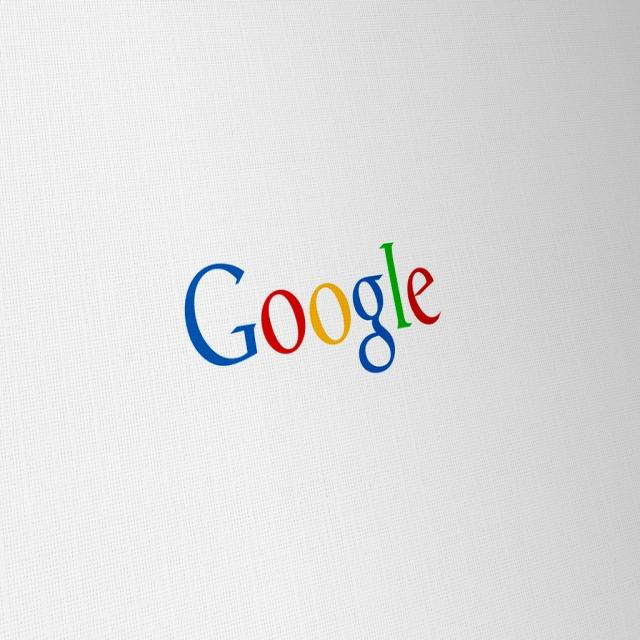google: (181, 238, 453, 383)
